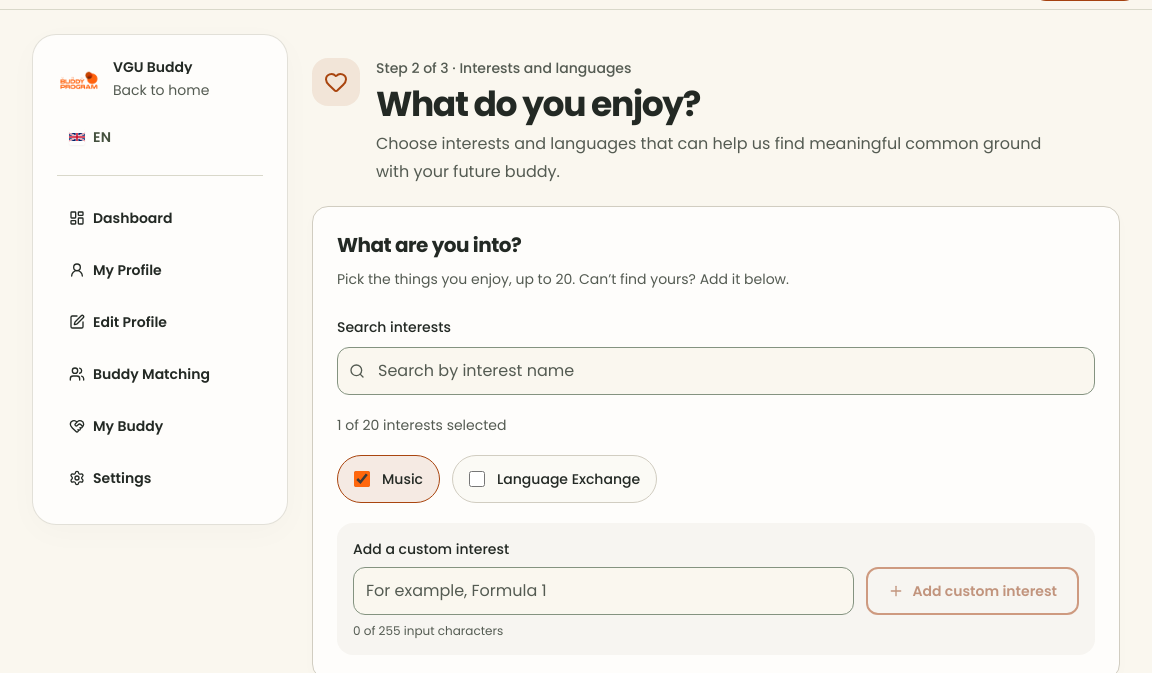
Scenario: FE-026 and PREF-004 interests and languages editor › refetches after a stale write and retries the preserved draft with the new version
This screenshot has width=1152, height=673.
Click the checkbox labelled "Language Exchange" at (477, 479), box 469,471 -> 485,487
(page scrolled)
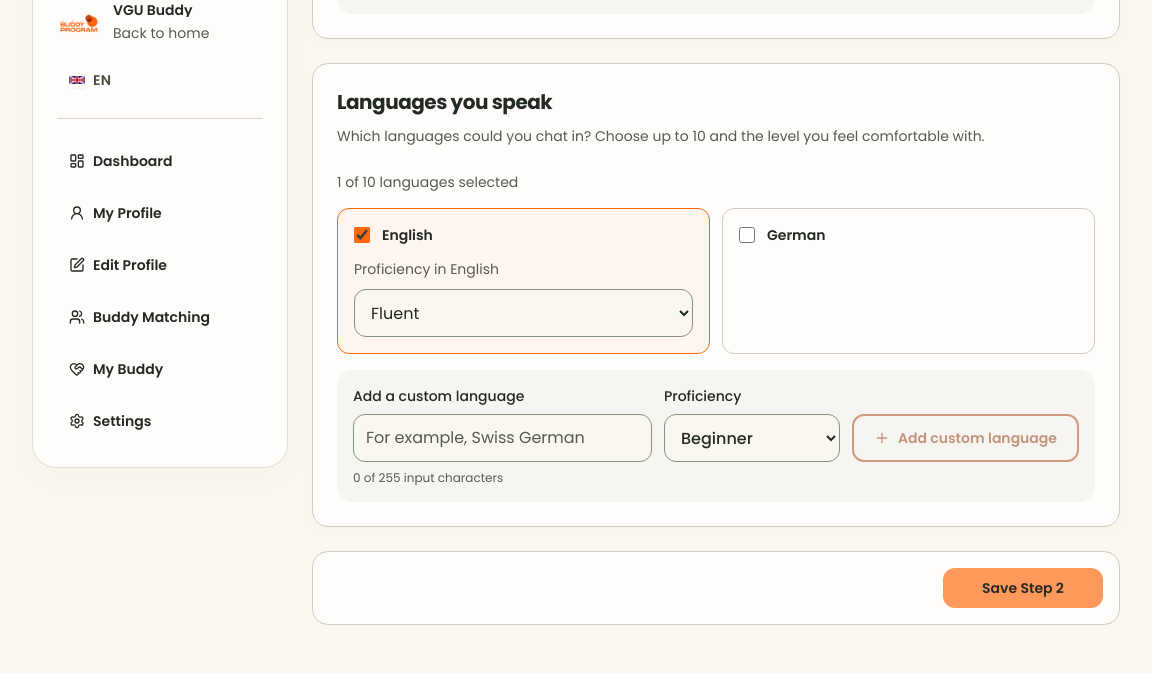
Click the button "Save Step 2" at (1023, 588), box 943,568 -> 1103,608
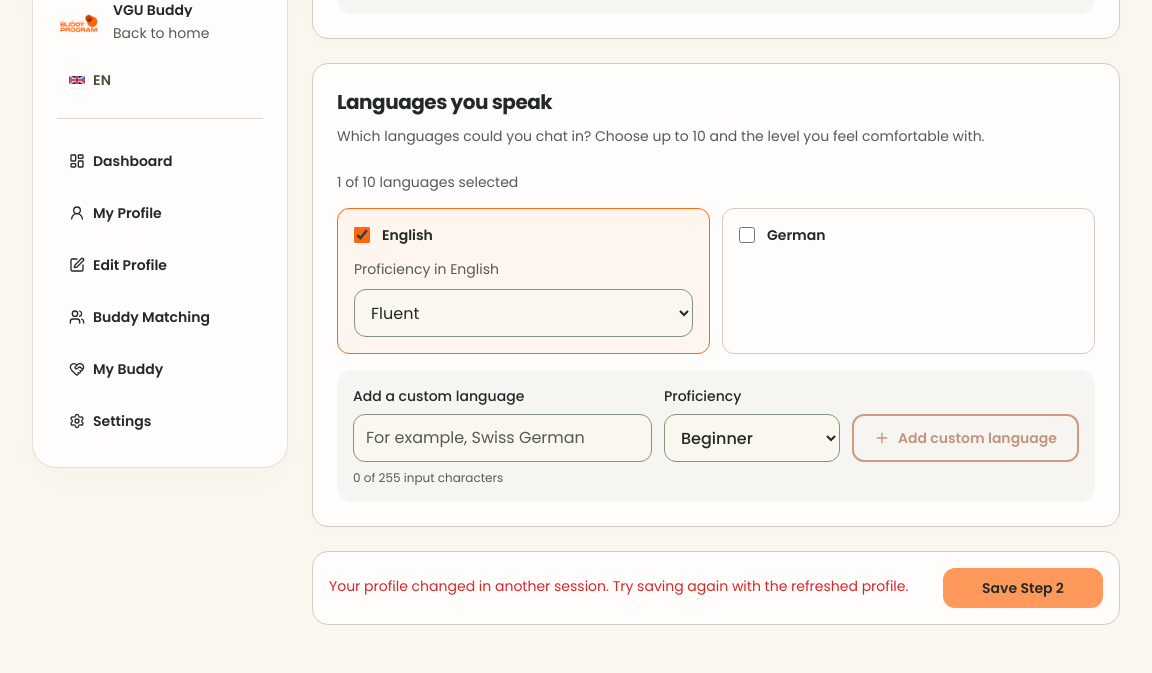
Expected: the message shows "Your profile changed in another session.", 329,576 -> 908,596
Click the button "Save Step 2" at (1023, 588), box 943,568 -> 1103,608
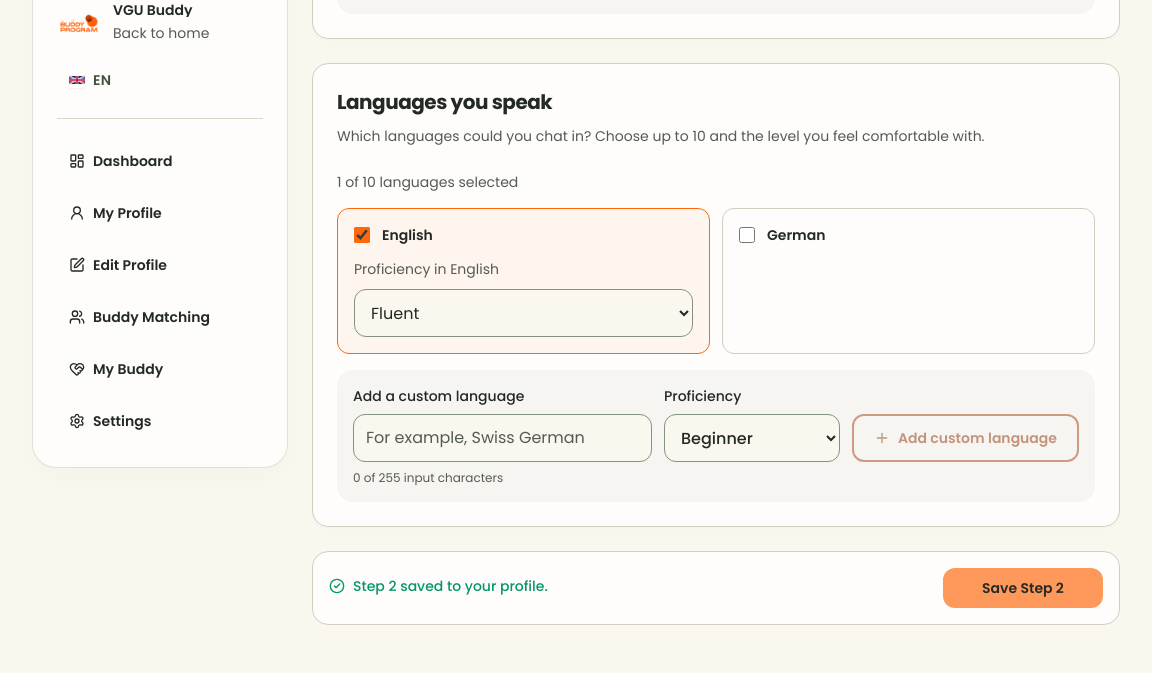
Expected: the text "Step 2 saved to your profile." is shown, 329,576 -> 548,596
